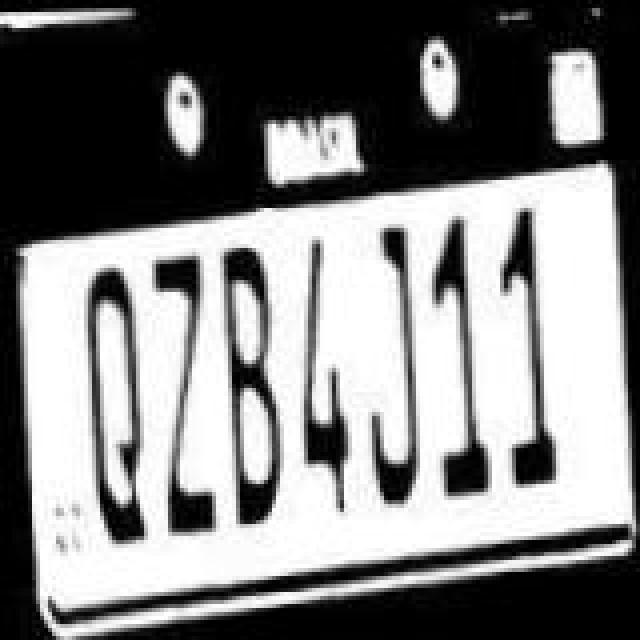1: (486, 190, 574, 494), (420, 198, 500, 510)
4: (282, 218, 366, 526)
B: (206, 218, 298, 534)
J: (352, 204, 440, 512)
Q: (58, 252, 158, 568)
Z: (136, 226, 224, 554)
